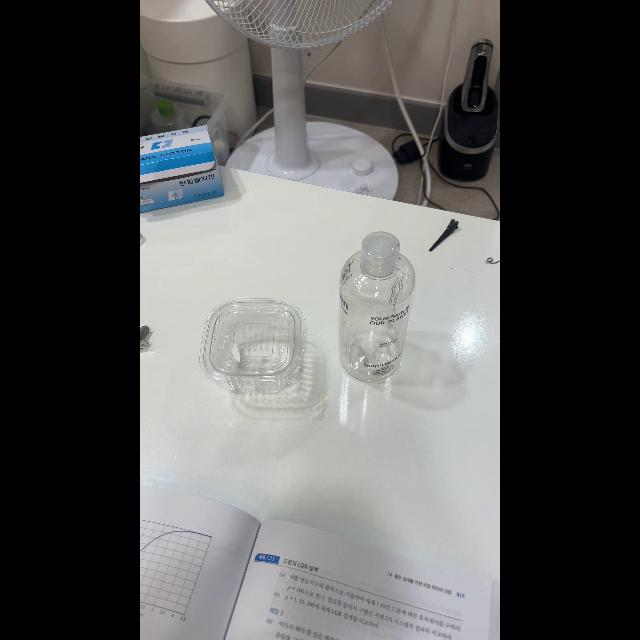clean: (338, 235, 417, 381), (200, 298, 306, 394)
